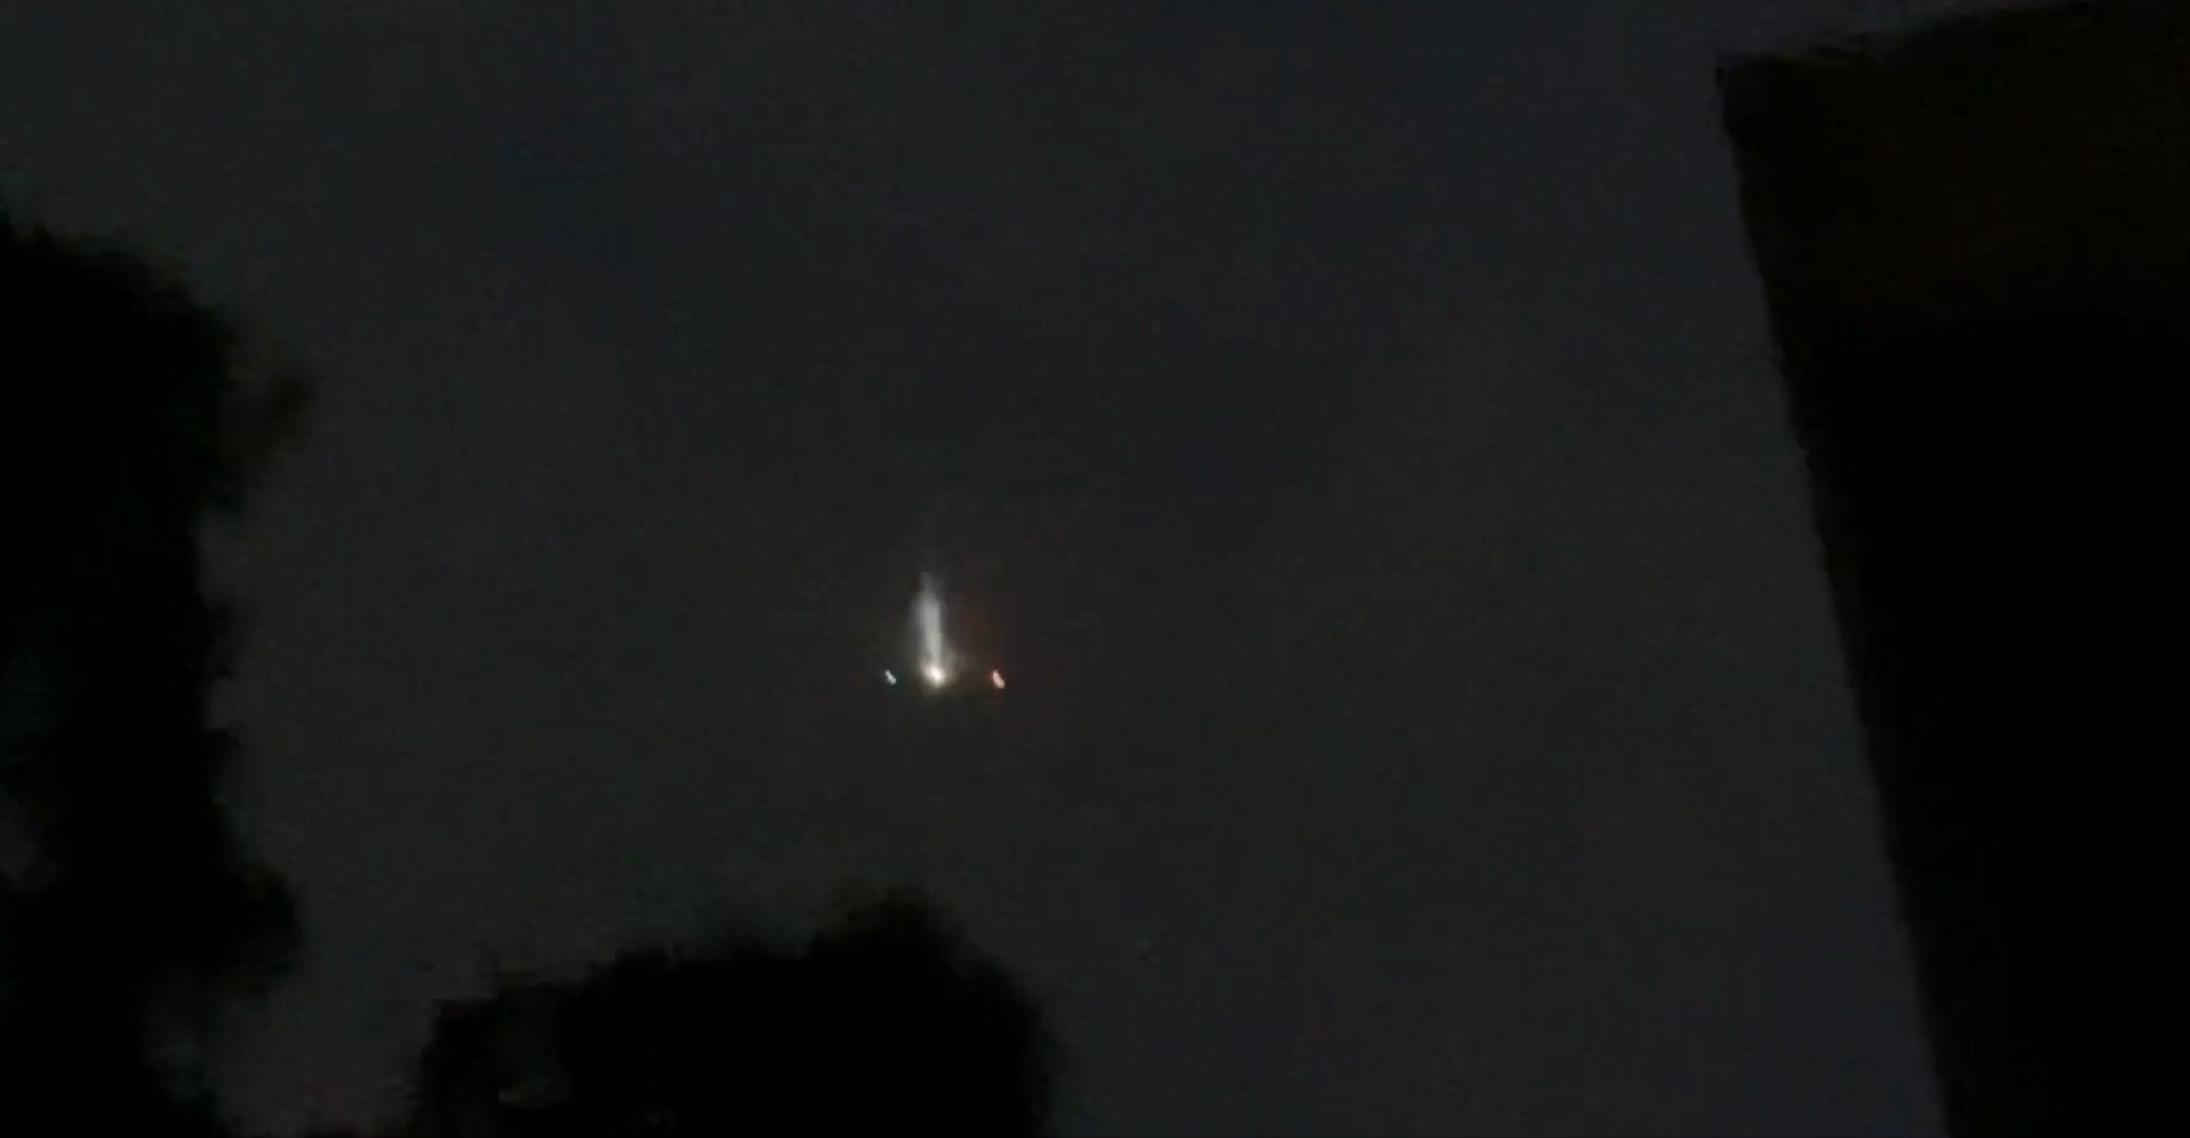Plane: (813, 552, 1076, 750)
